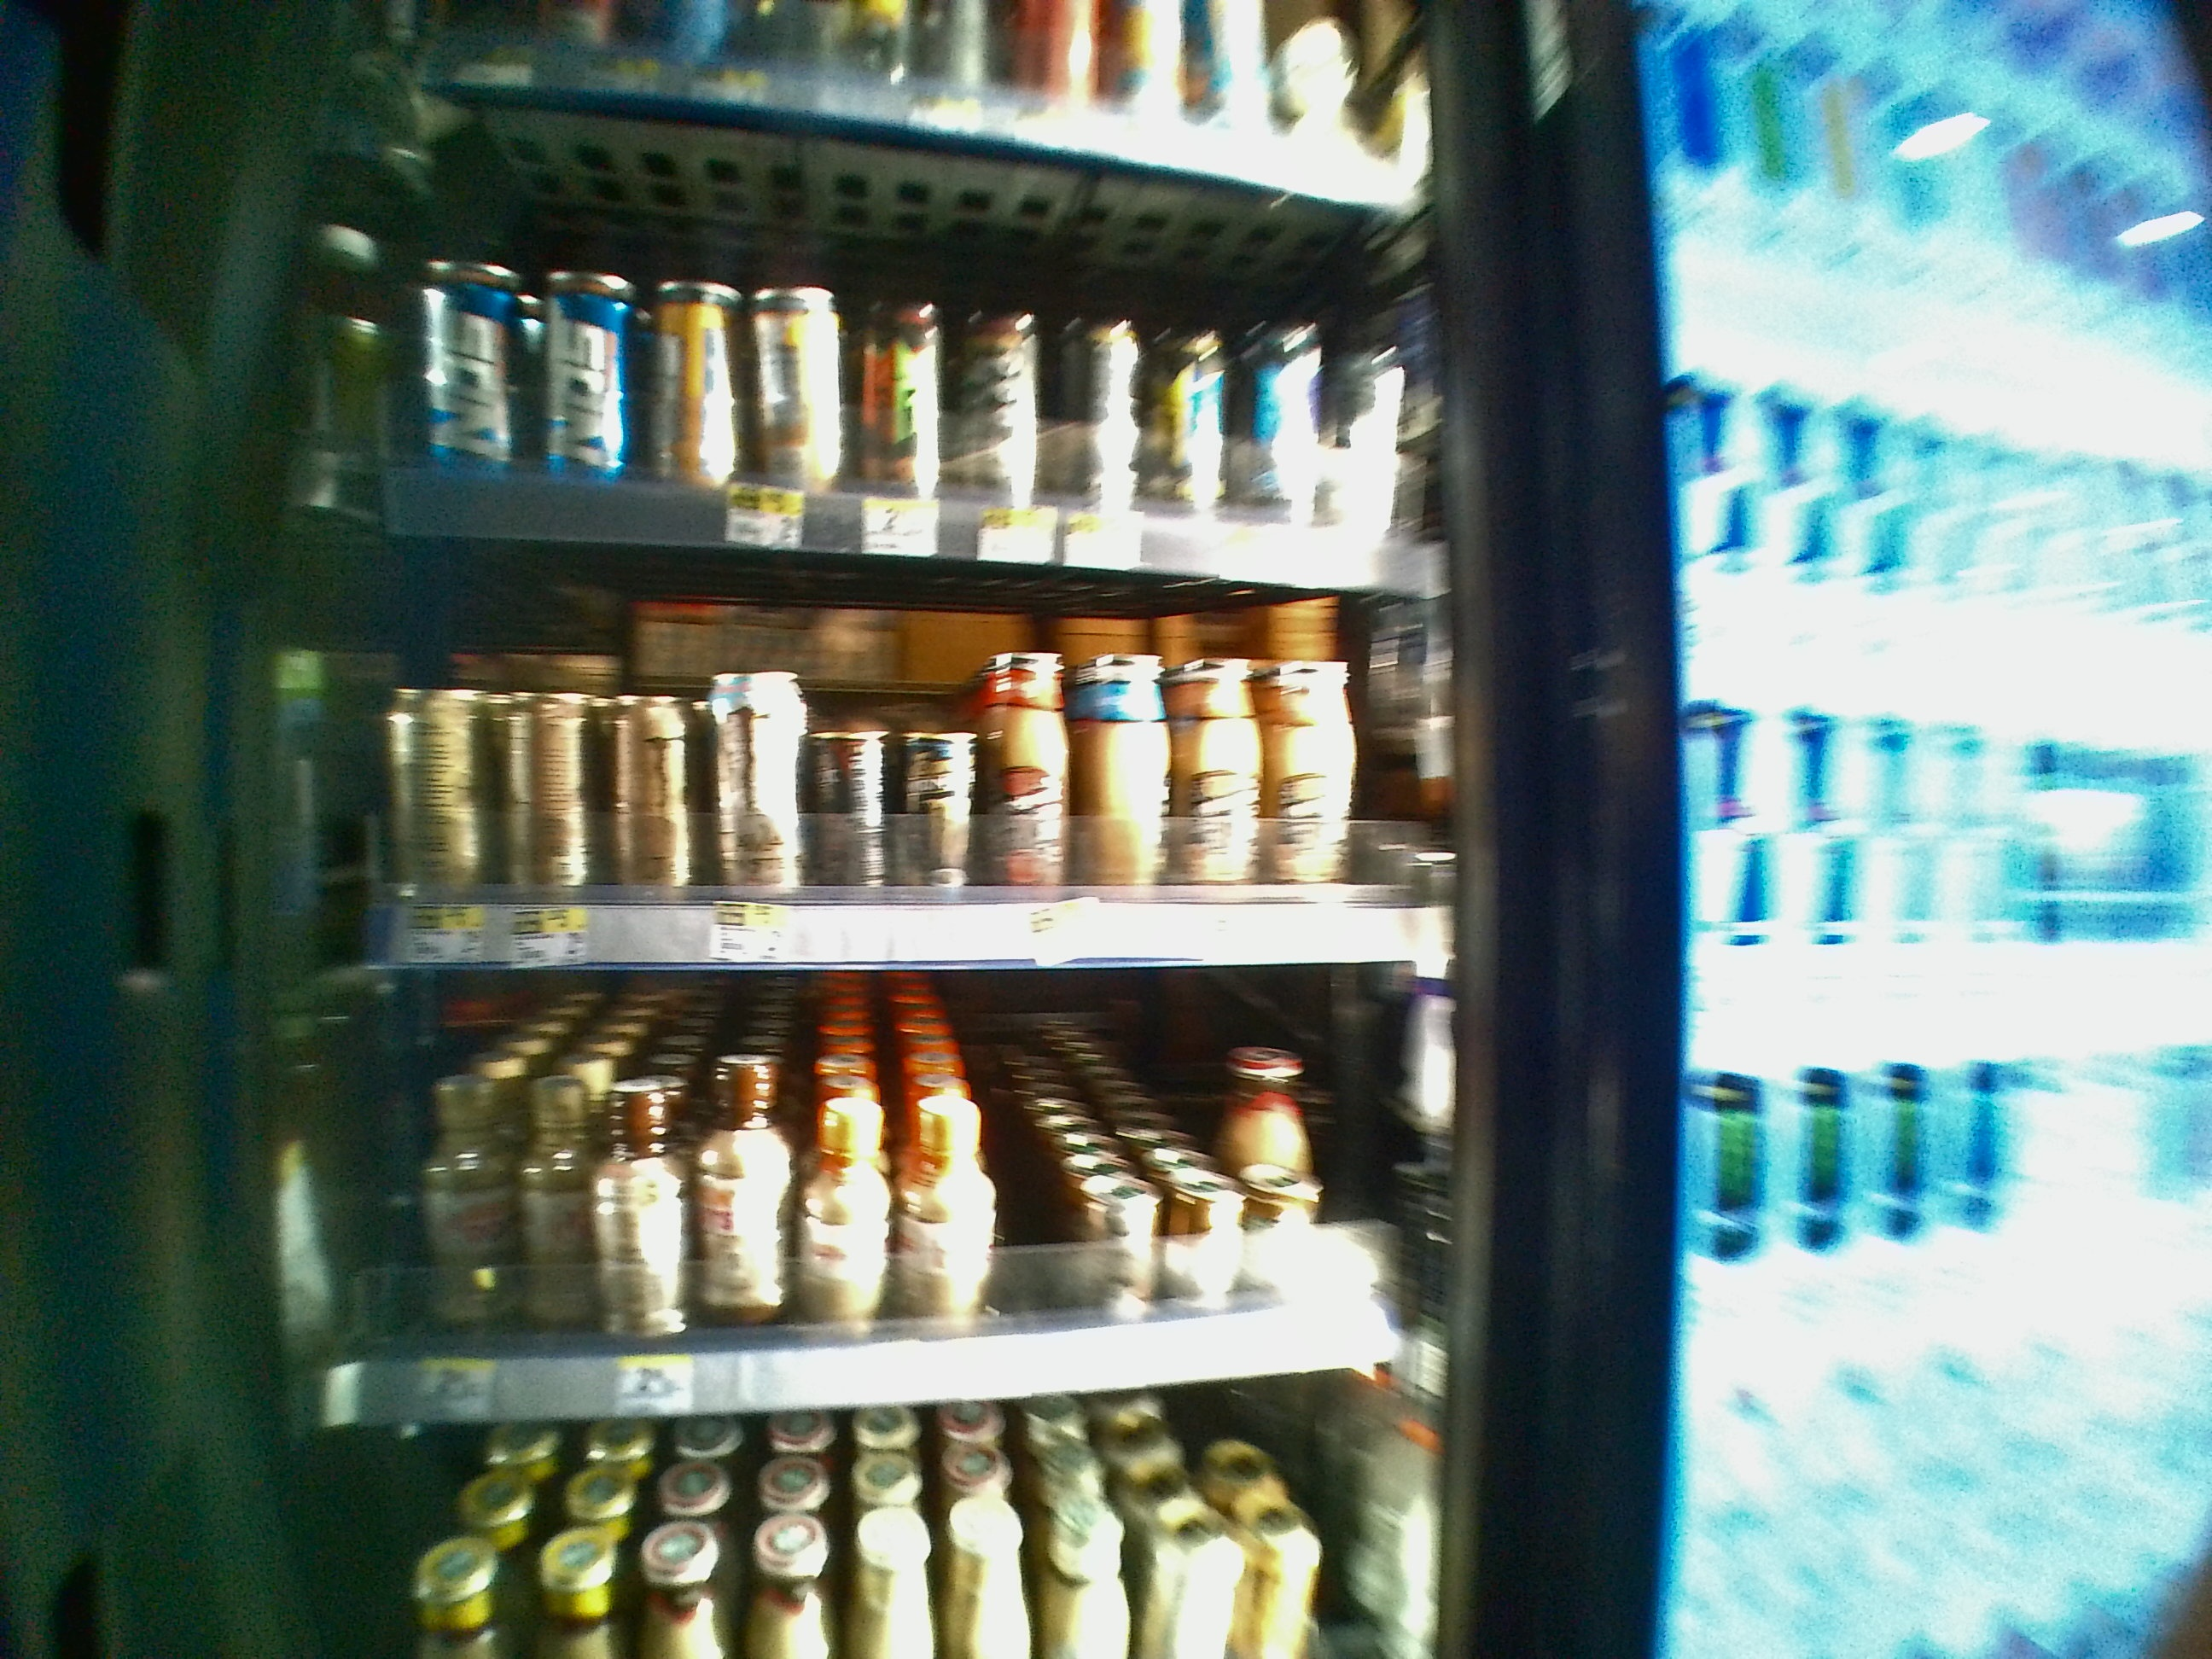shelf: (261, 549, 1468, 979)
